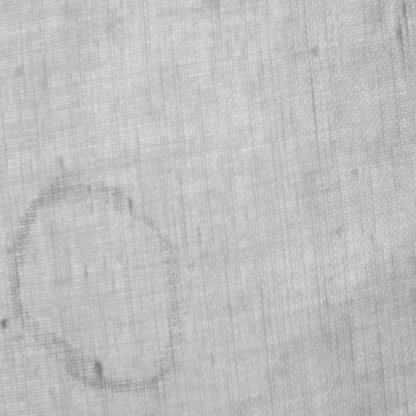oil spot: (6, 180, 185, 393)
